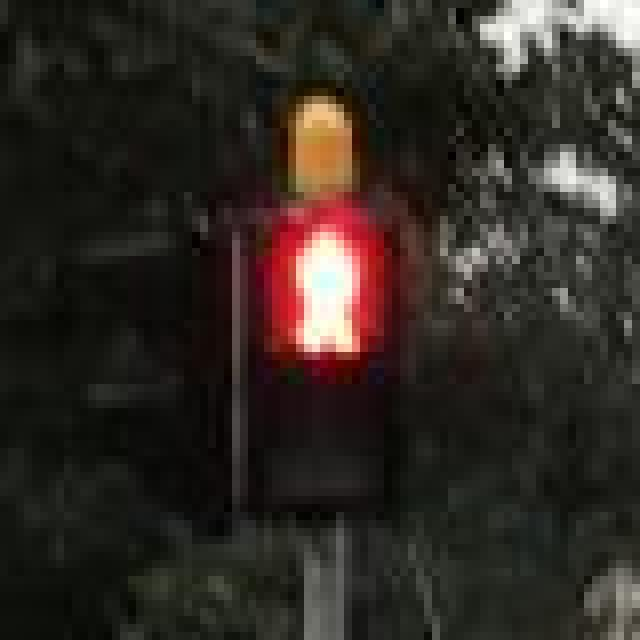redlight: (216, 144, 400, 520)
